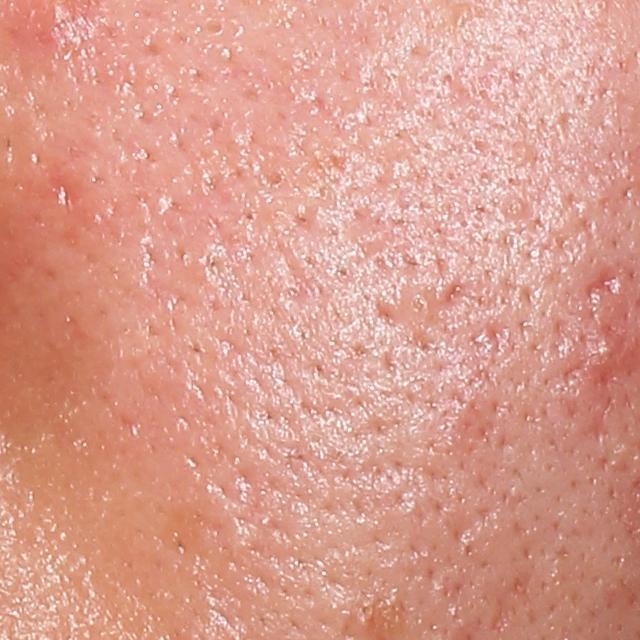atrophic_scar: (581, 261, 625, 306)
papule: (575, 317, 637, 390)
